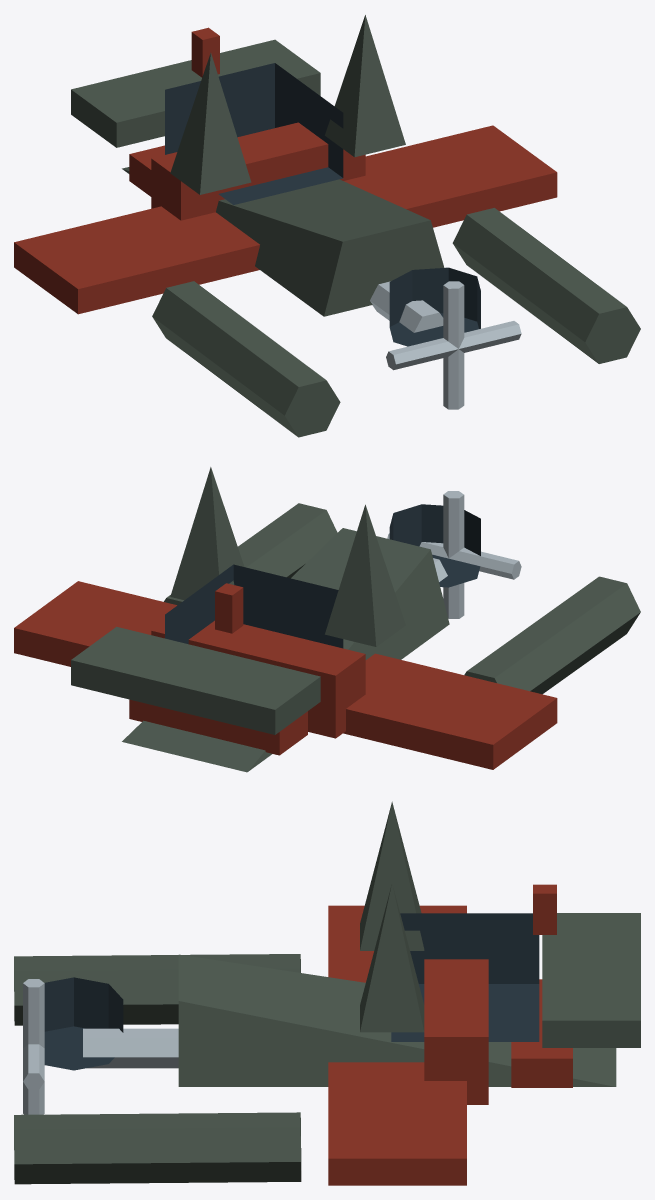
File: gunship.obj
3 views of the same model, one above another, from view 1: azimuth 30°, elevation 25°; view 2: azimuth 150°, elevation 25°; view 3: azimuth 270°, elevation 25° (orthographic). The views are drawn at different scales.
Parts seen in each view (by area): view 1: air; view 2: air; view 3: air.
Part boxes in pixels (left/top/right/bottom): air: left=14, top=15, right=640, bottom=437; air: left=14, top=467, right=640, bottom=772; air: left=14, top=801, right=640, bottom=1185.
Size of the model in its own units: 2.23 by 1.12 by 2.34.
